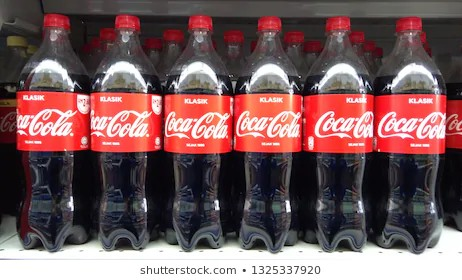coke-bottle-2l: (16, 11, 89, 256), (304, 15, 376, 257), (162, 14, 234, 254), (376, 15, 447, 258), (89, 11, 158, 253), (236, 15, 304, 253)
